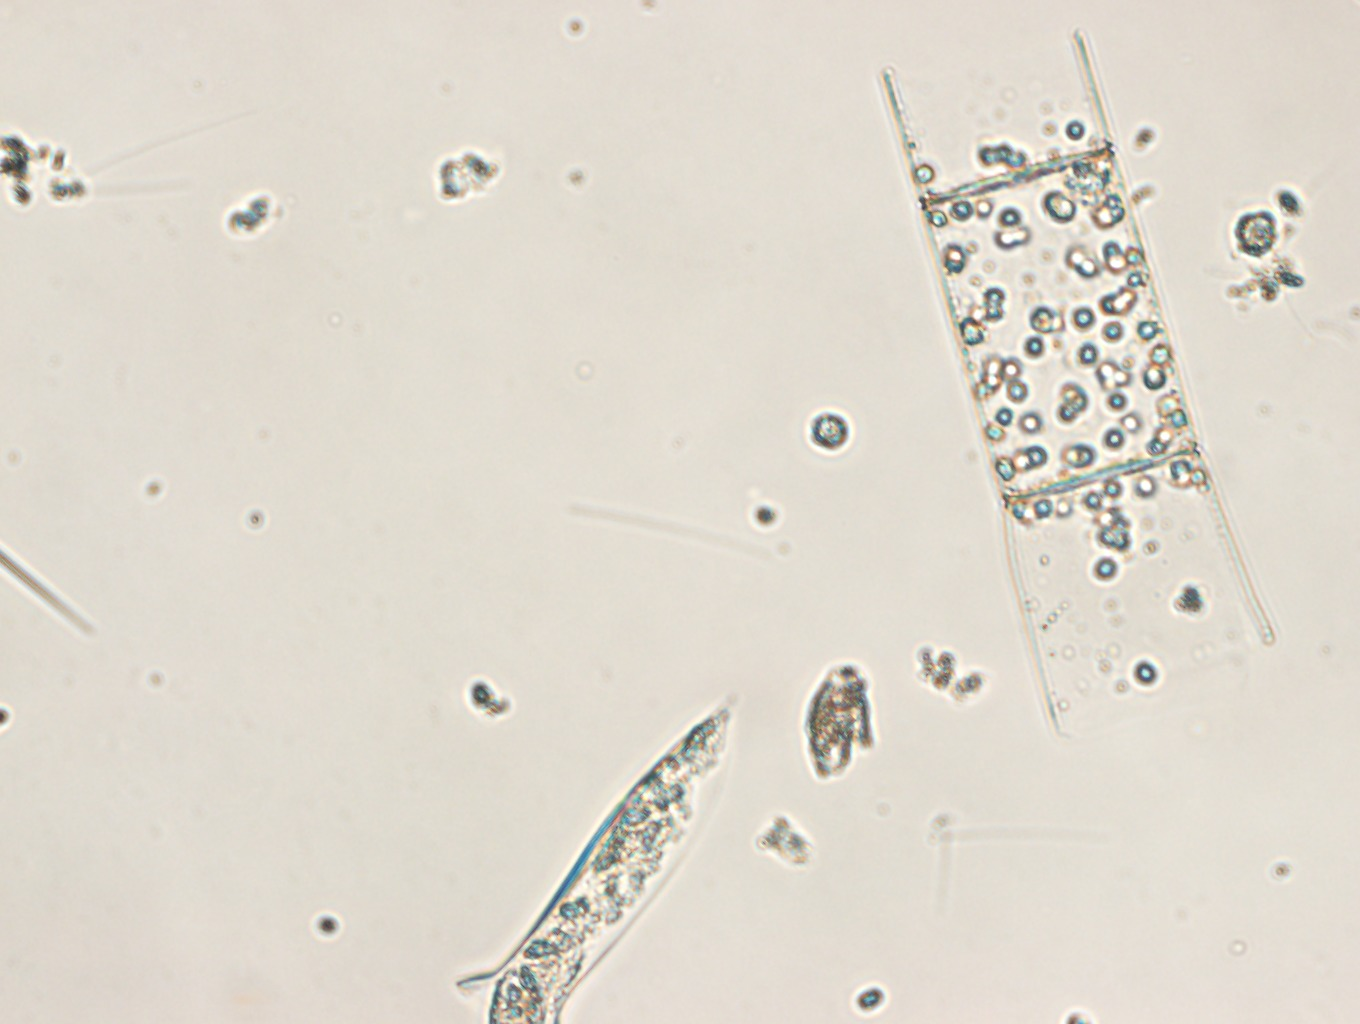guinardia flaccida: (918, 141, 1198, 497)
